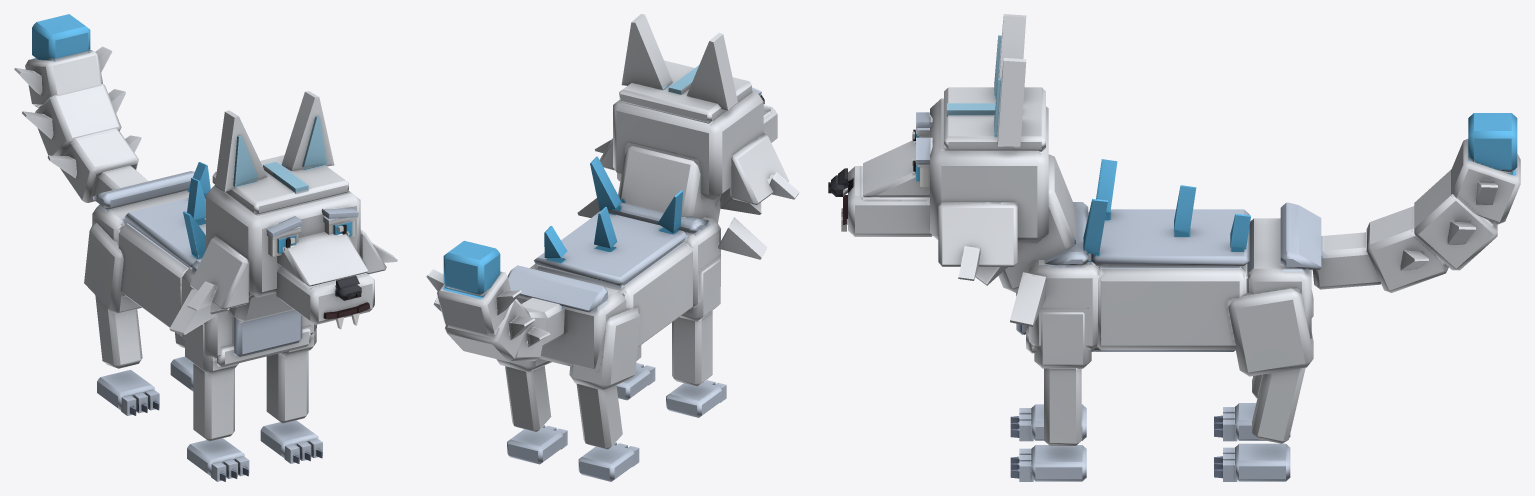
The model's file is LoupPolaire_Rig.fbx.
3 renders of one model, left to right at view 1: azimuth 30°, elevation 25°; view 2: azimuth 150°, elevation 25°; view 3: azimuth 270°, elevation 25°, orthographic. The views are drawn at different scales.
Visible parts, largest first — view 1: Head, Body, Tail, LegBR, LegFR, LegFL, LegBL; view 2: Body, Head, Tail, LegBR, LegFR, LegBL, LegFL; view 3: Body, Head, Tail, LegBL, LegFL, LegBR, LegFR.
Boxes of the visible parts, <box> form: Head: <box>187,91,397,329</box>; Body: <box>92,162,316,366</box>; Tail: <box>14,14,147,202</box>; LegBR: <box>84,223,159,415</box>; LegFR: <box>185,323,249,481</box>; LegFL: <box>260,328,322,463</box>; LegBL: <box>170,332,193,391</box>; Body: <box>507,146,767,368</box>; Head: <box>595,14,799,204</box>; Tail: <box>426,240,564,361</box>; LegBR: <box>569,308,640,481</box>; LegFR: <box>666,259,726,417</box>; LegBL: <box>496,358,567,464</box>; LegFL: <box>616,345,655,400</box>; Body: <box>975,154,1321,353</box>; Head: <box>828,14,1048,280</box>; Tail: <box>1312,113,1520,292</box>; LegBL: <box>1214,288,1313,481</box>; LegFL: <box>1010,312,1091,481</box>; LegBR: <box>1214,290,1313,441</box>; LegFR: <box>1010,404,1086,441</box>.
Size of the model in its own units: 3.52 by 6 by 9.06.
1 material, 1 textured.
